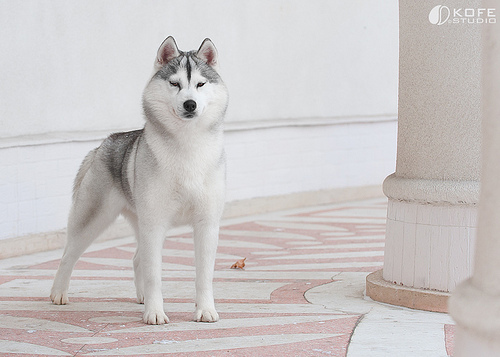dog: (52, 33, 235, 324)
